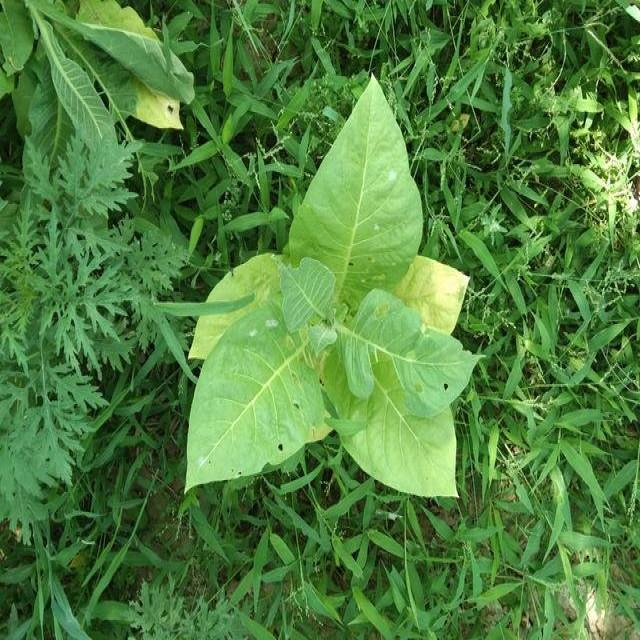crop: (186, 74, 479, 498)
